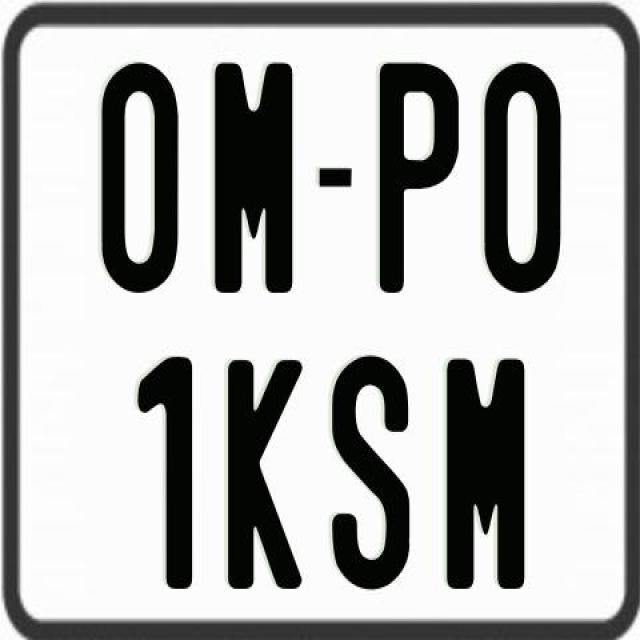0: (99, 59, 184, 296), (484, 61, 564, 294)
1: (134, 356, 194, 596)
K: (224, 356, 300, 594)
M: (214, 58, 298, 296), (444, 358, 527, 596)
P: (381, 58, 458, 292)
S: (330, 352, 412, 594)
